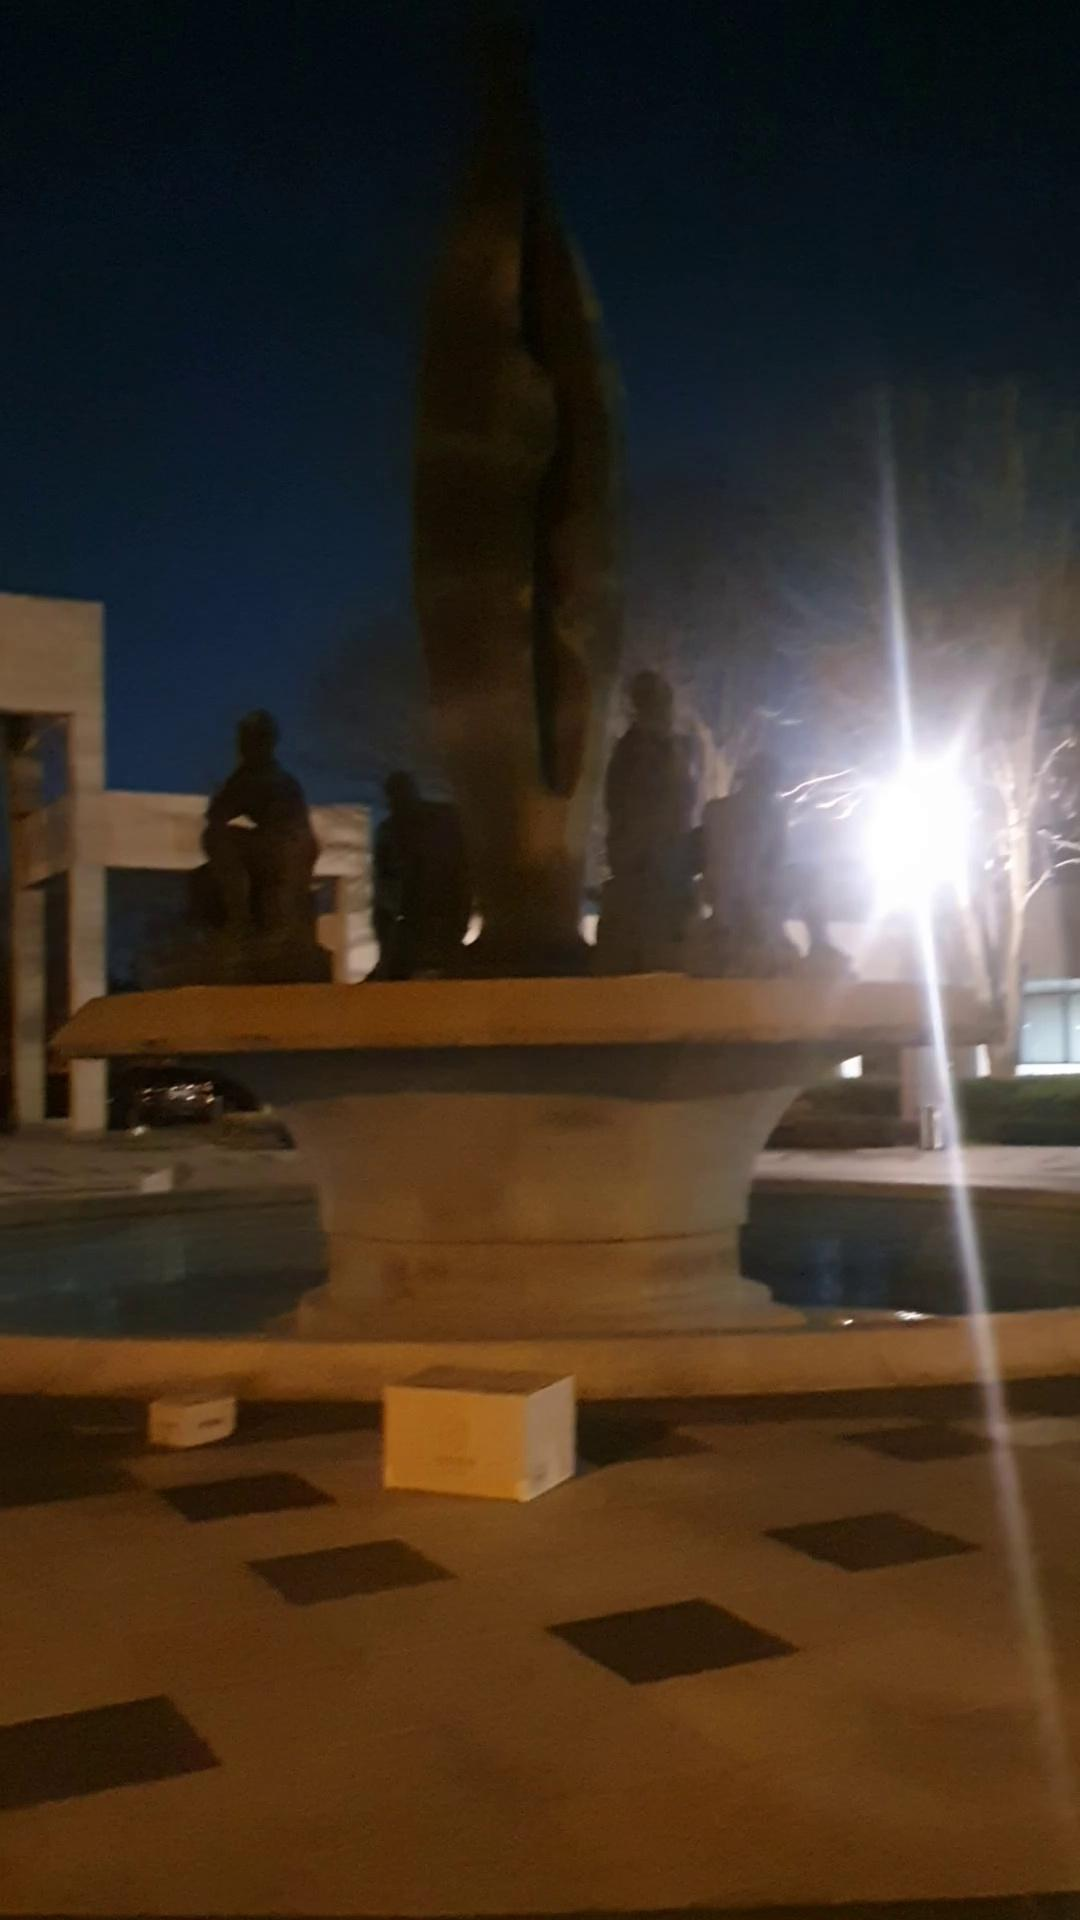Box: (351, 1353, 603, 1518), (136, 1379, 248, 1462)
